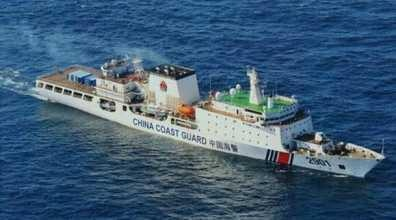warship: (38, 53, 387, 174)
